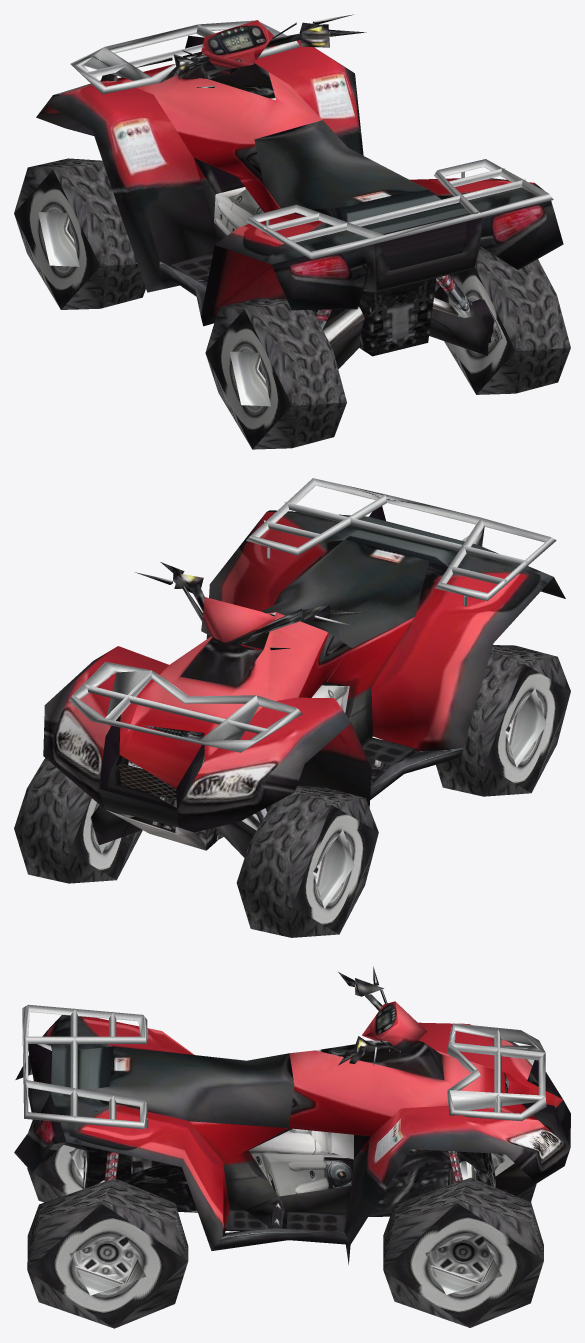
The model's file is ATV0.2.glb.
3 views of the same model, one above another, from view 1: azimuth 30°, elevation 25°; view 2: azimuth 150°, elevation 25°; view 3: azimuth 270°, elevation 25° (orthographic). The views are drawn at different scales.
Parts seen in each view (by area): view 1: ATV; view 2: ATV; view 3: ATV.
Boxes of the visible parts, box(x1,y1,x2,y2) form: ATV: box(14, 14, 570, 449); ATV: box(14, 478, 570, 937); ATV: box(14, 966, 570, 1328).
Size of the model in its own units: 1.42 by 1.32 by 2.62.
Materials: 1 (1 with a texture image).
